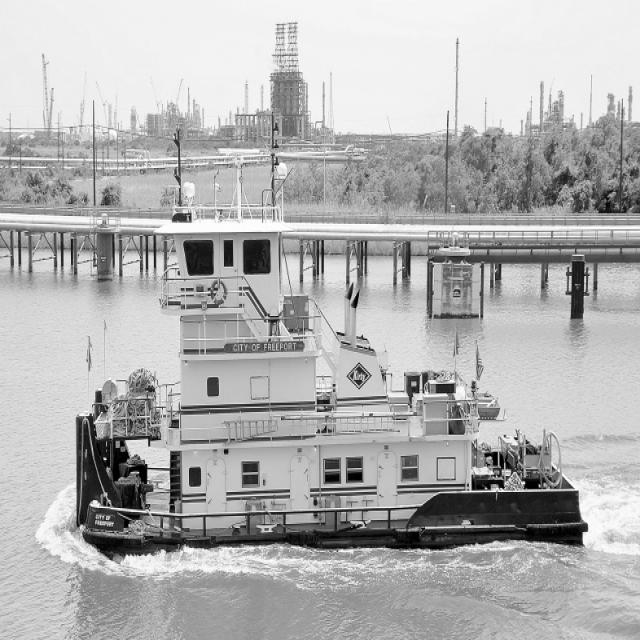tugboat: (70, 155, 594, 567)
